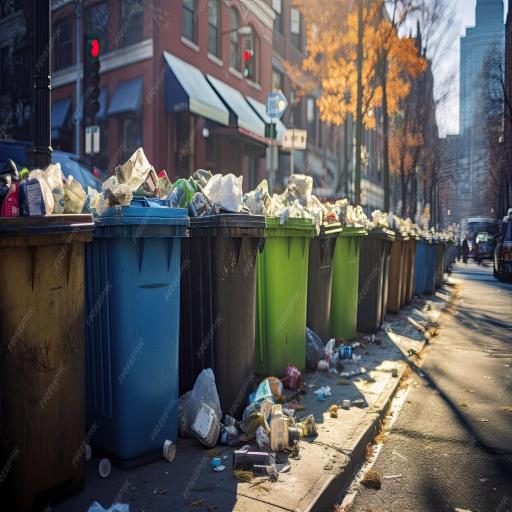contenedor_lleno: (19, 154, 453, 459), (0, 219, 81, 328)
